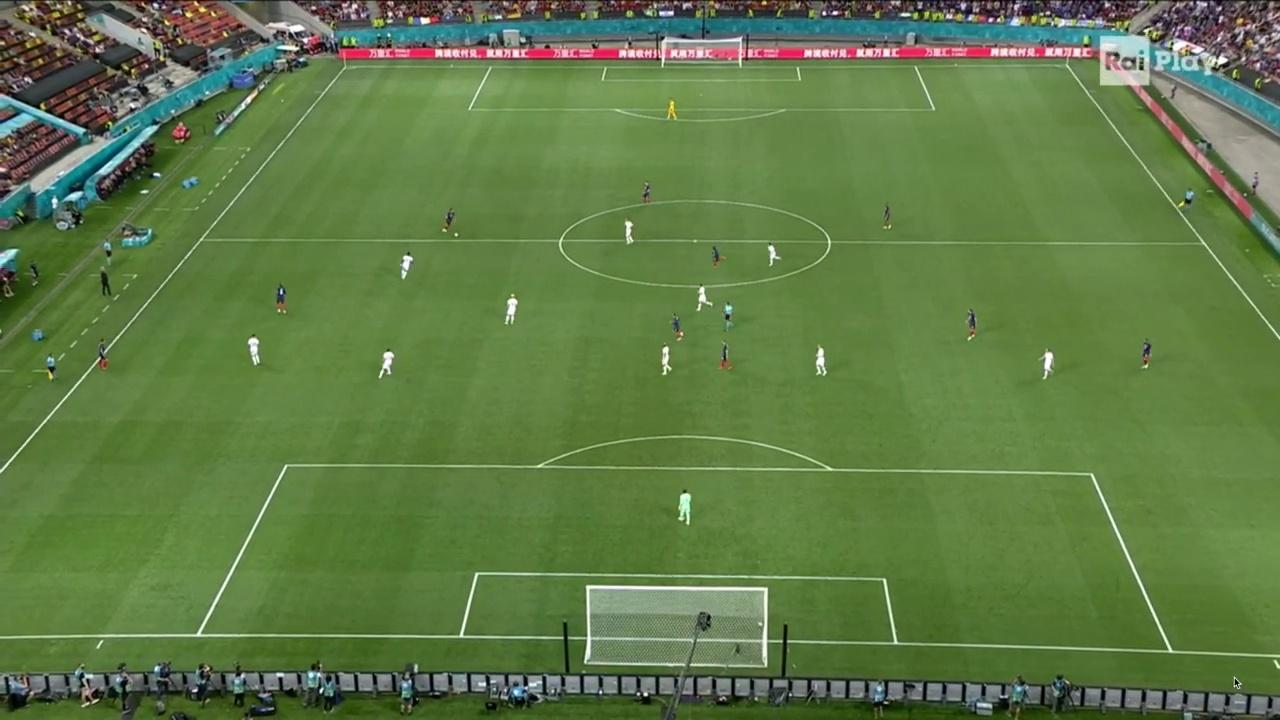ball: (453, 229, 459, 238)
goalkeeper: (678, 487, 694, 527), (665, 96, 680, 122)
player: (1036, 346, 1058, 383), (244, 331, 264, 368), (377, 345, 397, 381), (694, 281, 715, 315), (716, 337, 734, 374), (272, 280, 290, 315), (503, 290, 520, 327), (961, 306, 978, 343), (438, 205, 458, 235), (667, 311, 685, 344), (813, 342, 829, 379), (396, 251, 415, 282), (764, 240, 784, 268), (659, 340, 674, 377), (1139, 335, 1154, 372), (96, 337, 111, 373), (708, 243, 728, 268), (879, 199, 894, 232), (621, 215, 636, 247), (640, 178, 652, 208)
referee: (723, 300, 736, 333), (1177, 186, 1193, 212), (45, 352, 57, 382), (104, 237, 114, 268)
